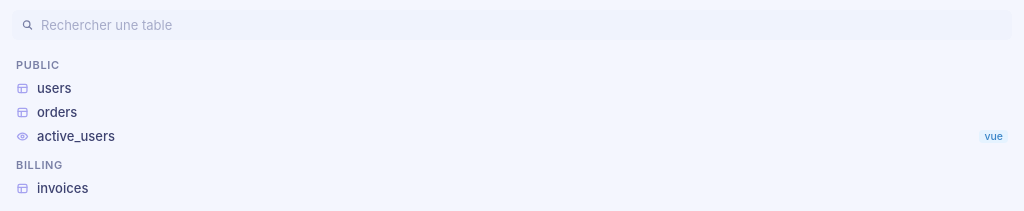
it: groups tables by schema and filters by search
The width and height of the screenshot is (1024, 211).
Check: the text "billing" is shown, box 16,158 -> 63,172
Type "user" into the search field with placeholder "Rechercher une table".
click(512, 25); type("user")  # box 12,10 -> 1012,40
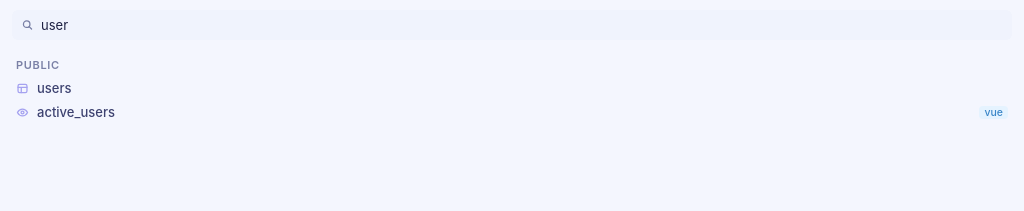
Check: the text "users" is shown, box 37,80 -> 72,96
Check: the button "orders" is gone
Check: the text "billing" is gone
